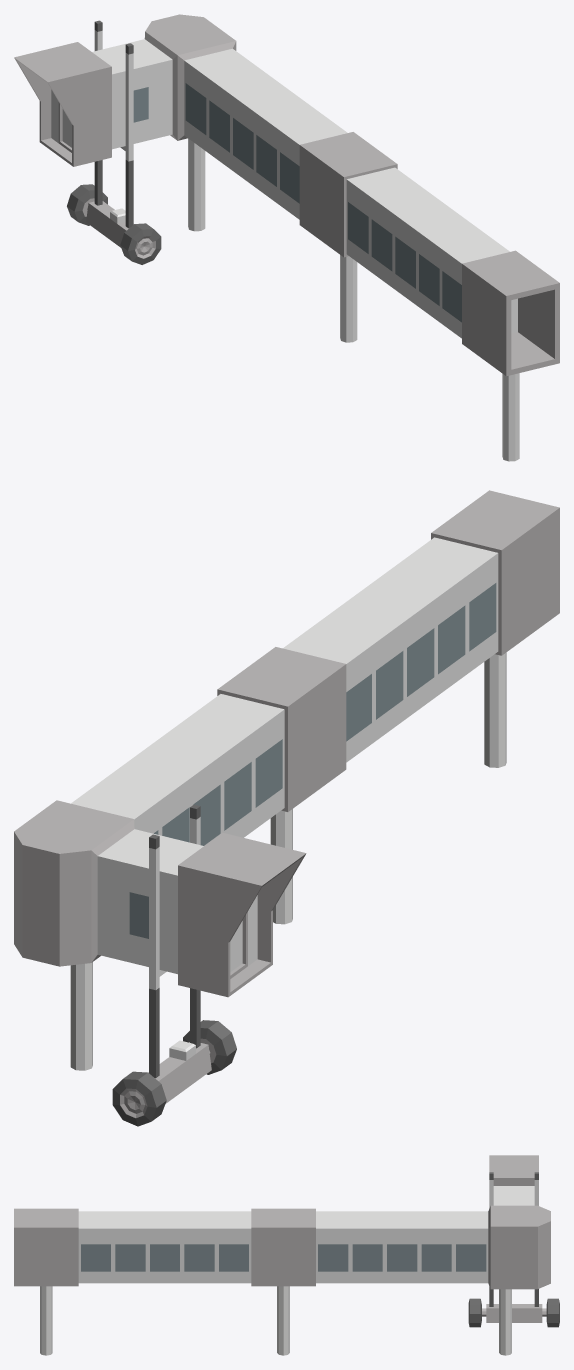
The model's file is Airport_bridge.fbx.
3 renders of one model, top to bottom at view 1: azimuth 30°, elevation 25°; view 2: azimuth 150°, elevation 25°; view 3: azimuth 270°, elevation 25°, orthographic. The views are drawn at different scales.
Parts seen in each view (by area): view 1: airport_jet_bridge; view 2: airport_jet_bridge; view 3: airport_jet_bridge.
Part boxes in pixels (box(x1,y1,x2,y2)): airport_jet_bridge: box(14, 14, 559, 461); airport_jet_bridge: box(14, 490, 559, 1126); airport_jet_bridge: box(14, 1155, 559, 1355).
Size of the model in its own units: 740 by 780 by 2532.
